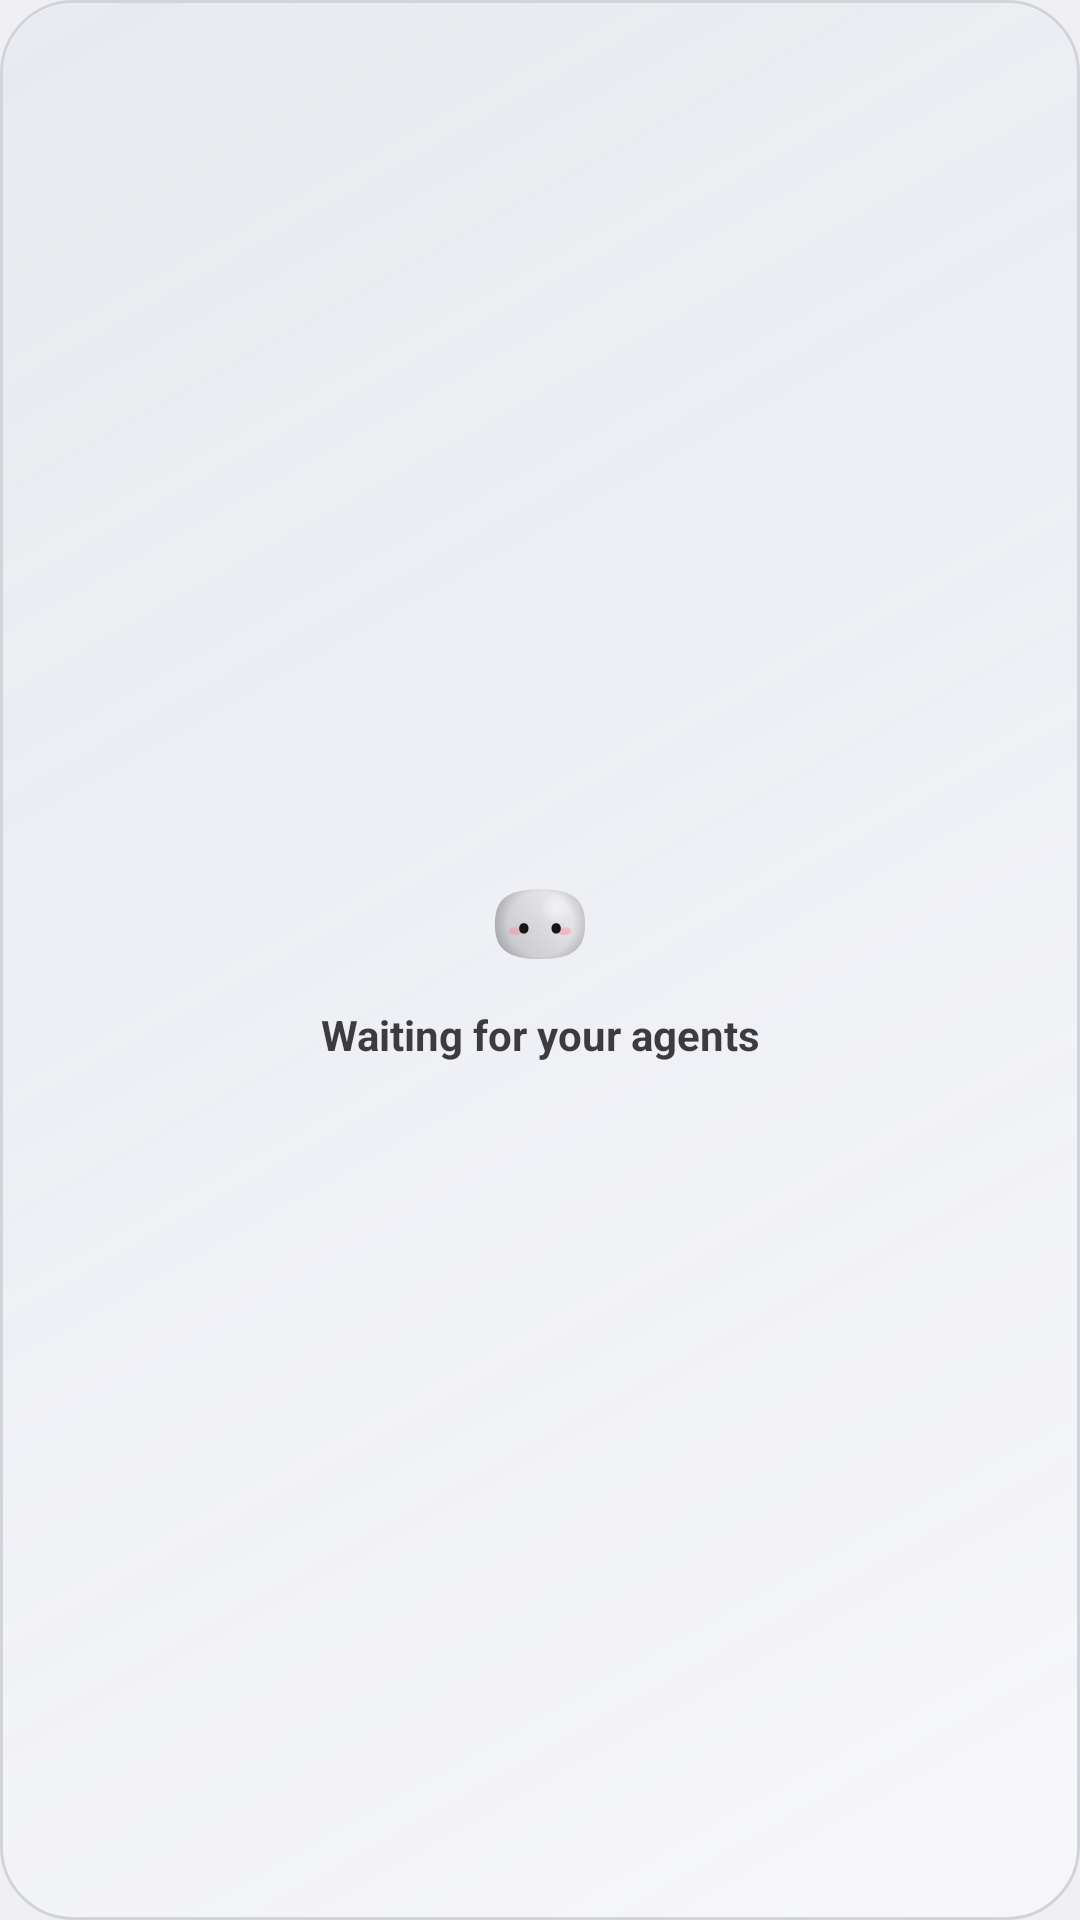

Where icons sit on this 1080w x 1920h app screen, as region(x1, y1, x2, y2):
face idle: region(495, 890, 585, 959)
